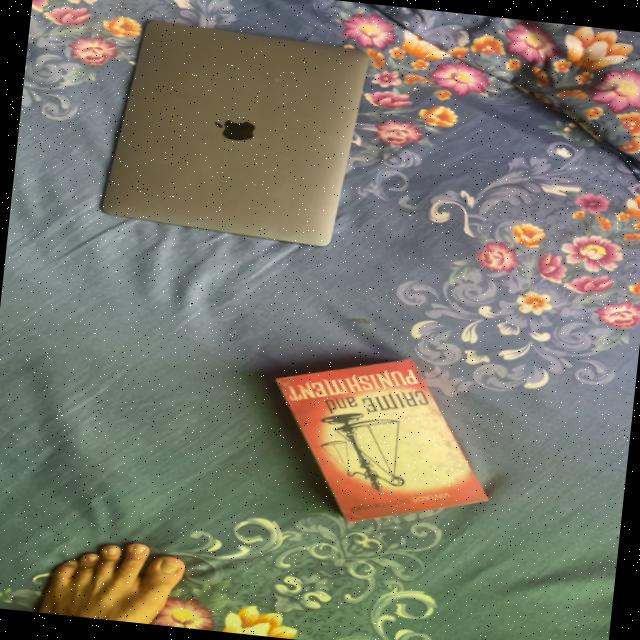book: (223, 350, 516, 540)
laptop: (100, 3, 387, 259)
